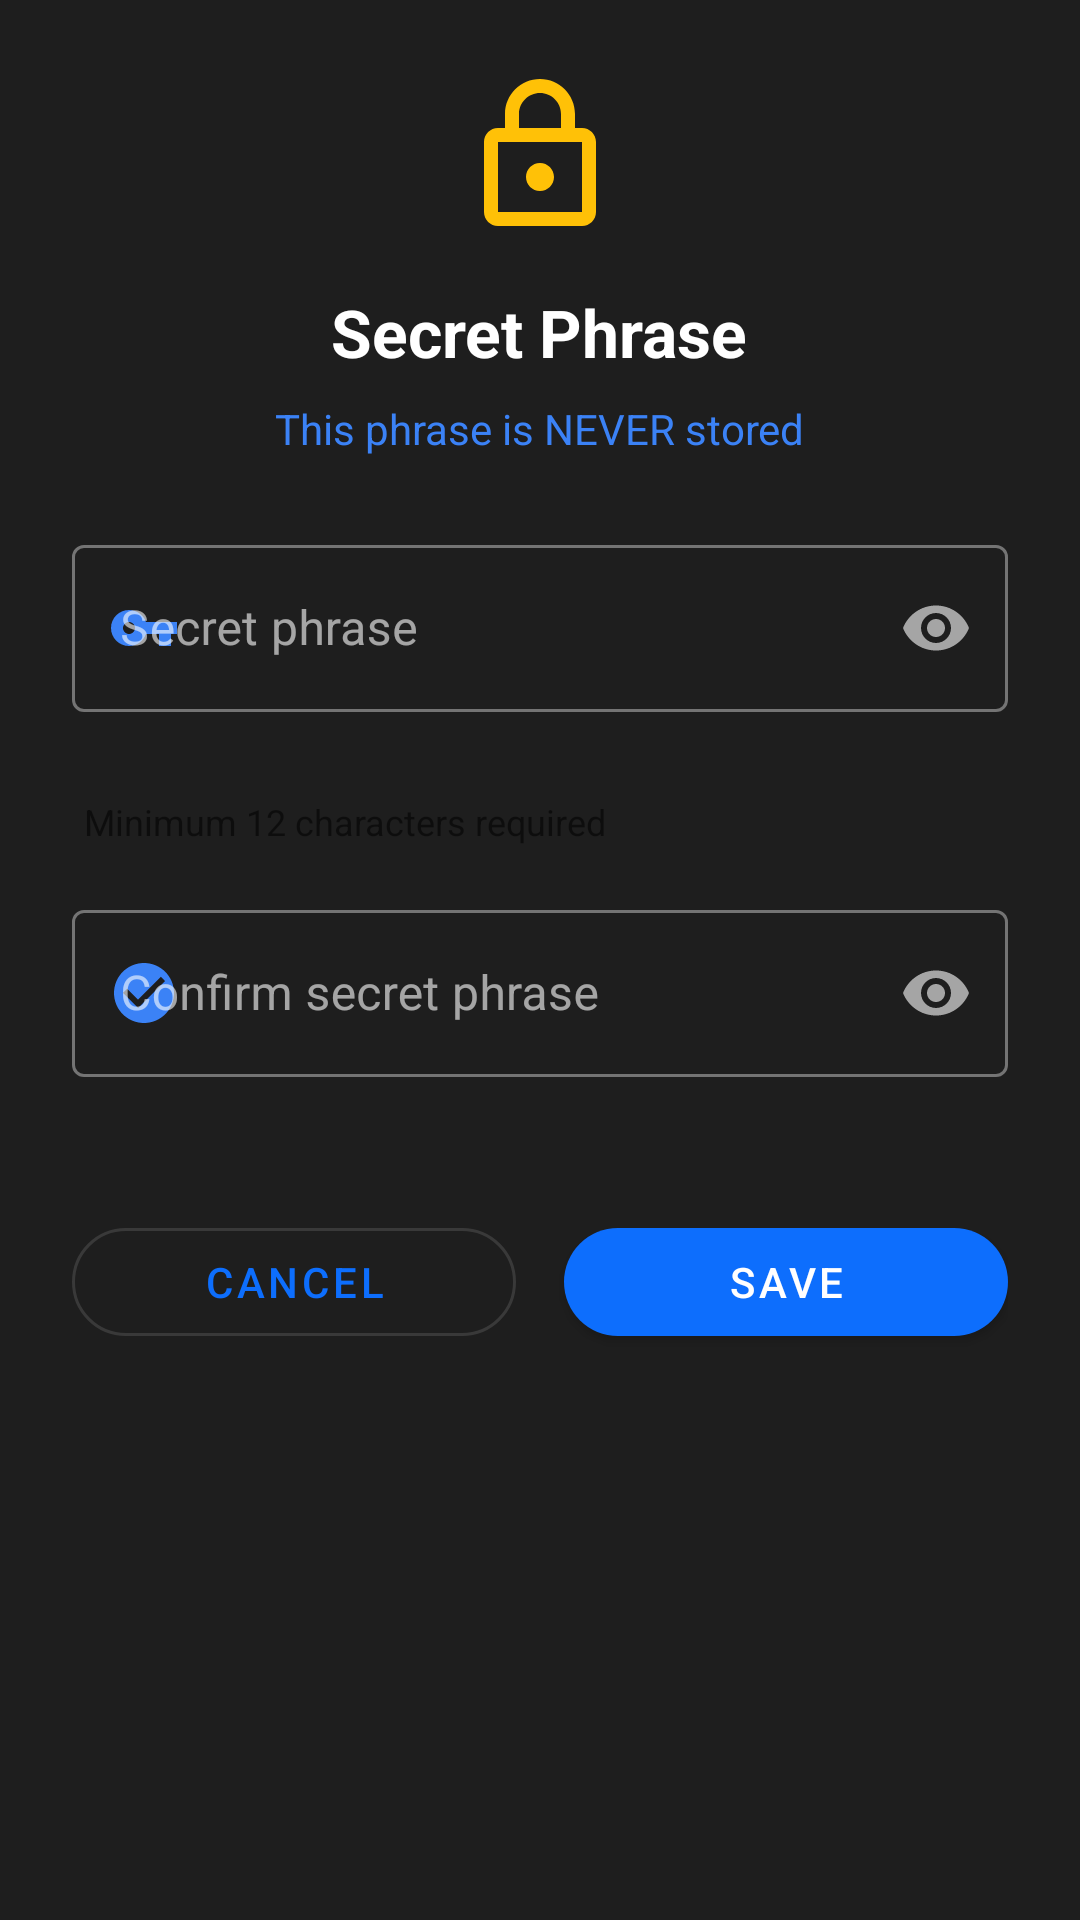

Where to tap for icons on this 1080*1920 app screen, as (x,y):
lock: (540,152)
